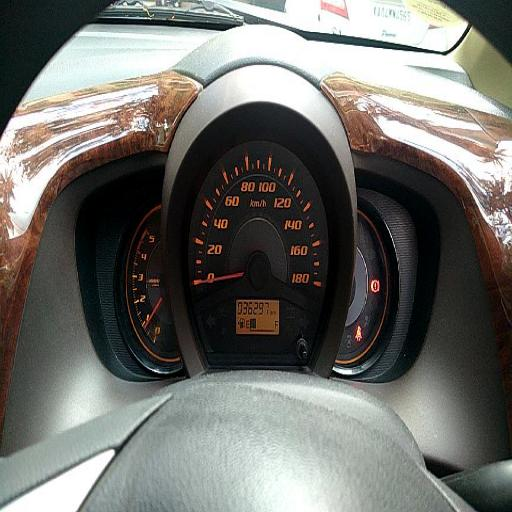belt: (355, 324, 362, 342)
brake_system_fault: (370, 278, 380, 293)
tachometer: (125, 205, 186, 362)
